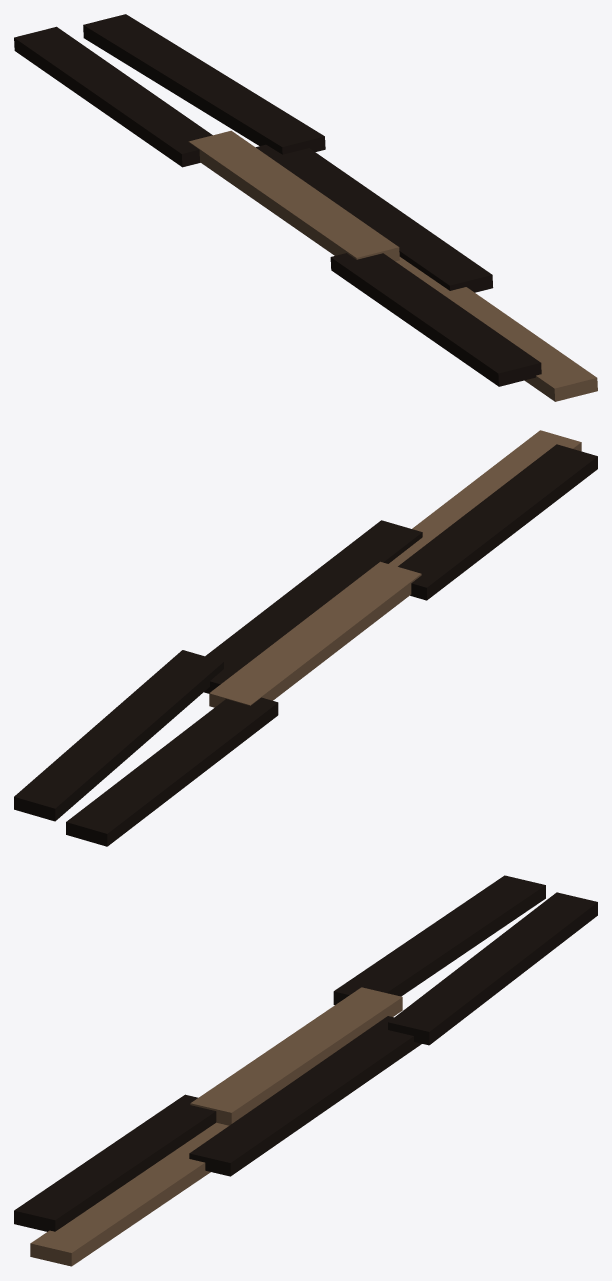
Rendered from Wooden_Planks.fbx.
3 views of the same model, one above another, from view 1: azimuth 30°, elevation 25°; view 2: azimuth 150°, elevation 25°; view 3: azimuth 330°, elevation 25° (orthographic).
Visible parts, largest first — view 1: pCube661; view 2: pCube661; view 3: pCube661.
Part boxes in pixels (box(x1,y1,x2,y2)): pCube661: box(14, 14, 597, 401); pCube661: box(14, 430, 597, 846); pCube661: box(14, 875, 597, 1266).
Size of the model in its own units: 1.2 by 0.3371 by 8.74.
